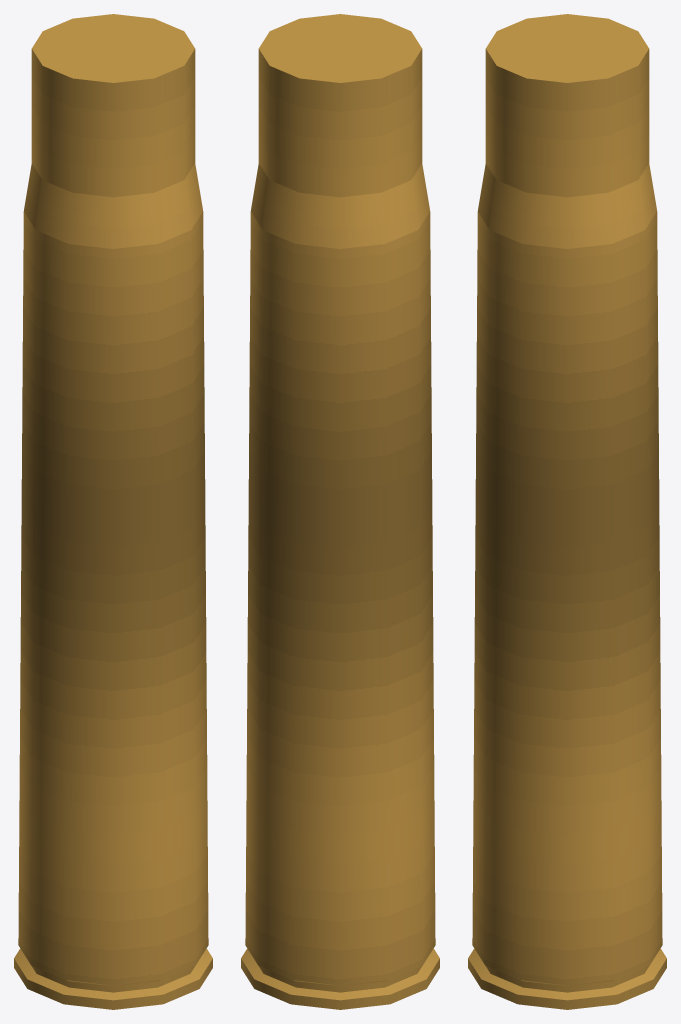
File: cannon.gltf
The picture shows the model from 3 angles, left to right: view 1: azimuth 30°, elevation 25°; view 2: azimuth 150°, elevation 25°; view 3: azimuth 270°, elevation 25°; orthographic projection.
Parts seen in each view (by area): view 1: cannon; view 2: cannon; view 3: cannon.
Part boxes in pixels (bbox=[...]): cannon: bbox=[14, 14, 212, 1009]; cannon: bbox=[241, 14, 439, 1009]; cannon: bbox=[468, 14, 666, 1009].
Size of the model in its own units: 0.112 by 0.571 by 0.112.
Materials: 1 (1 with a texture image).
